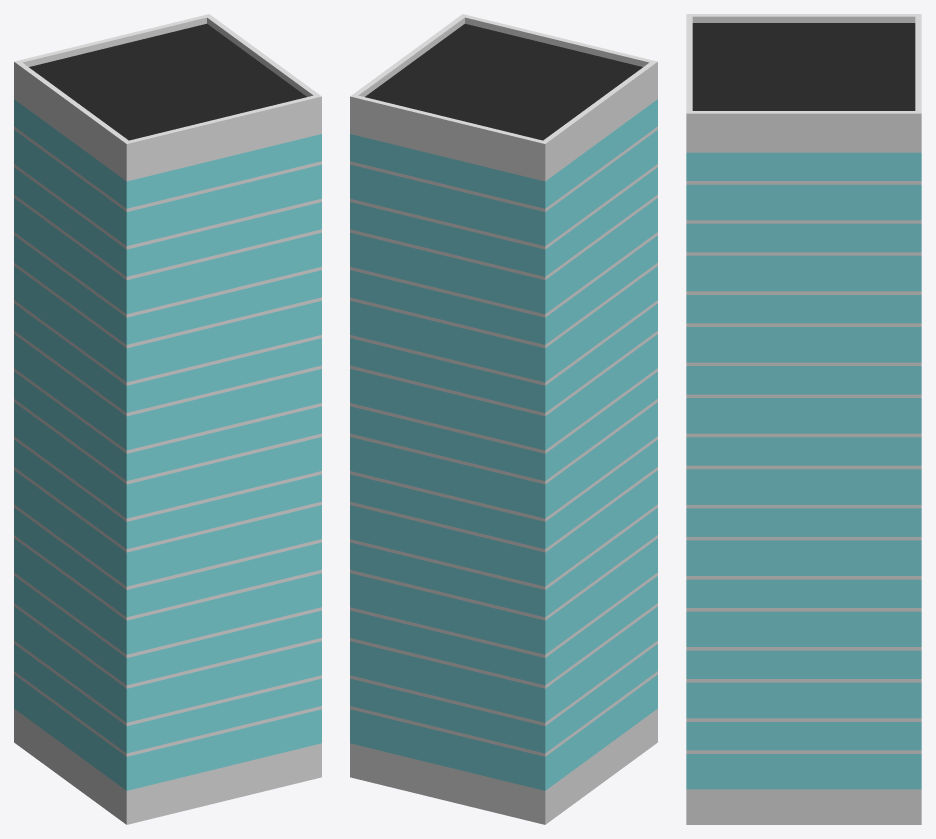
File: Building2.glb
3 renders of one model, left to right at view 1: azimuth 30°, elevation 25°; view 2: azimuth 150°, elevation 25°; view 3: azimuth 270°, elevation 25°, orthographic. The views are drawn at different scales.
Visible parts, largest first — view 1: Building2; view 2: Building2; view 3: Building2.
Part boxes in pixels (x1,y1,x2,y2): Building2: (14,14,321,824); Building2: (350,14,657,824); Building2: (686,14,921,824).
Size of the model in its own units: 6 by 20 by 6.
Materials: 1 (1 with a texture image).
